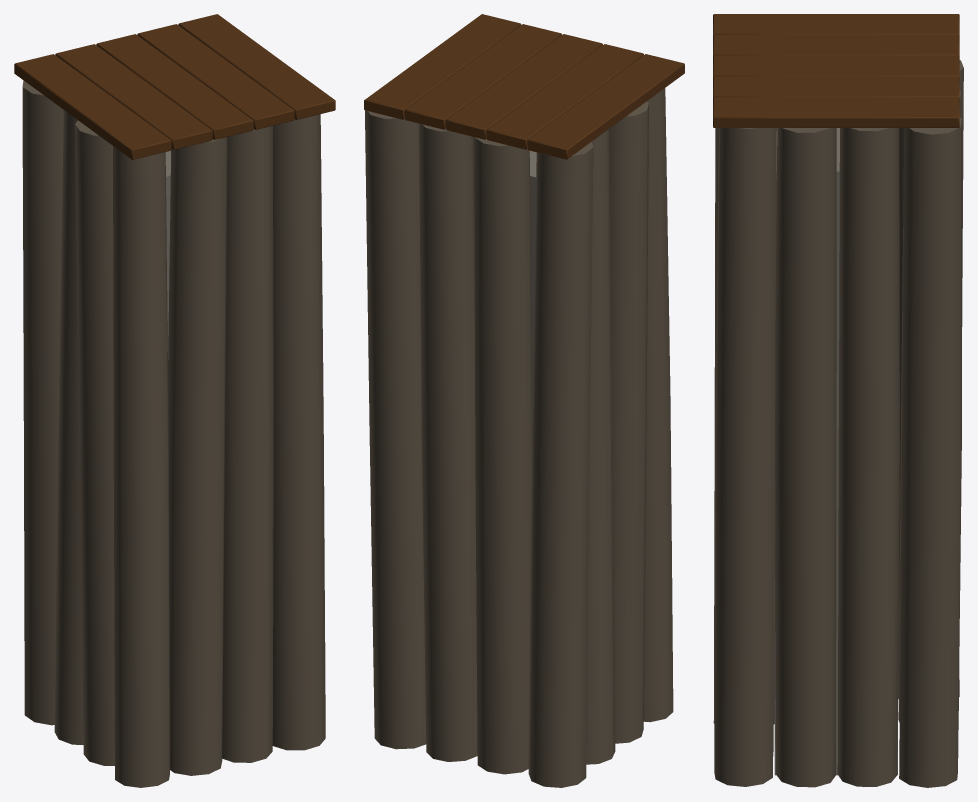
Rendered from festung_holz_1m.glb.
3 views of the same model, side by side, from view 1: azimuth 30°, elevation 25°; view 2: azimuth 150°, elevation 25°; view 3: azimuth 270°, elevation 25° (orthographic). The views are drawn at different scales.
Visible parts, largest first — view 1: festung_holz_1m; view 2: festung_holz_1m; view 3: festung_holz_1m.
Part boxes in pixels (x1,y1,x2,y2): festung_holz_1m: [14, 14, 335, 787]; festung_holz_1m: [364, 14, 684, 787]; festung_holz_1m: [713, 14, 963, 787].
Size of the model in its own units: 1.06 by 3.01 by 1.02.
